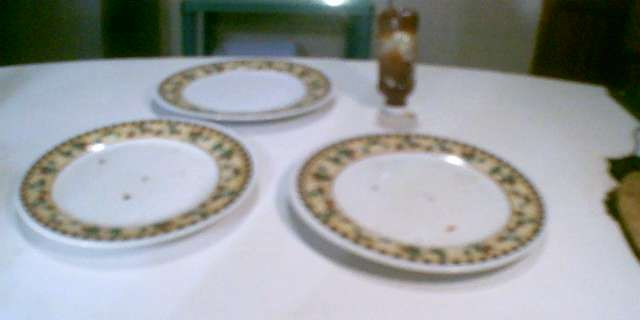empty_plate: (283, 125, 552, 285), (9, 112, 261, 255), (148, 54, 335, 123)
ketchup_bottle: (368, 4, 427, 122)
